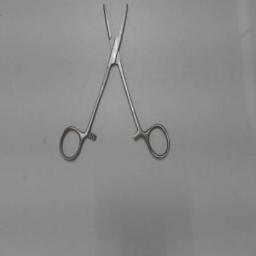Mayo Needle Holder: (55, 2, 175, 164)
